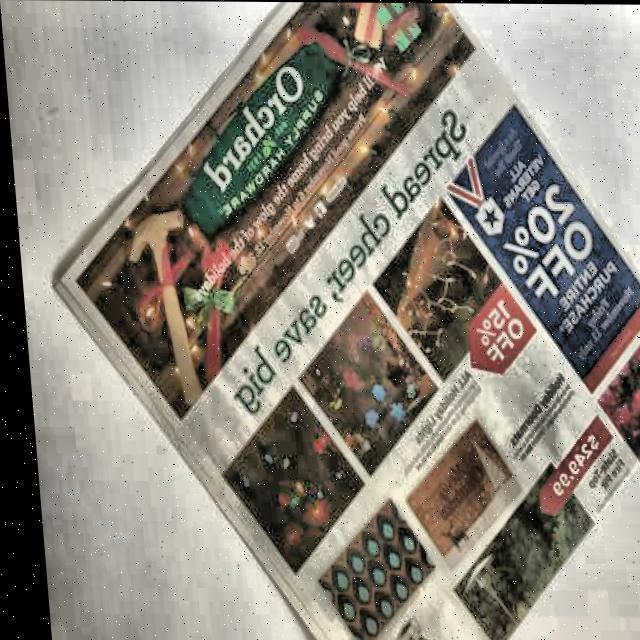paper: (29, 0, 640, 640)
